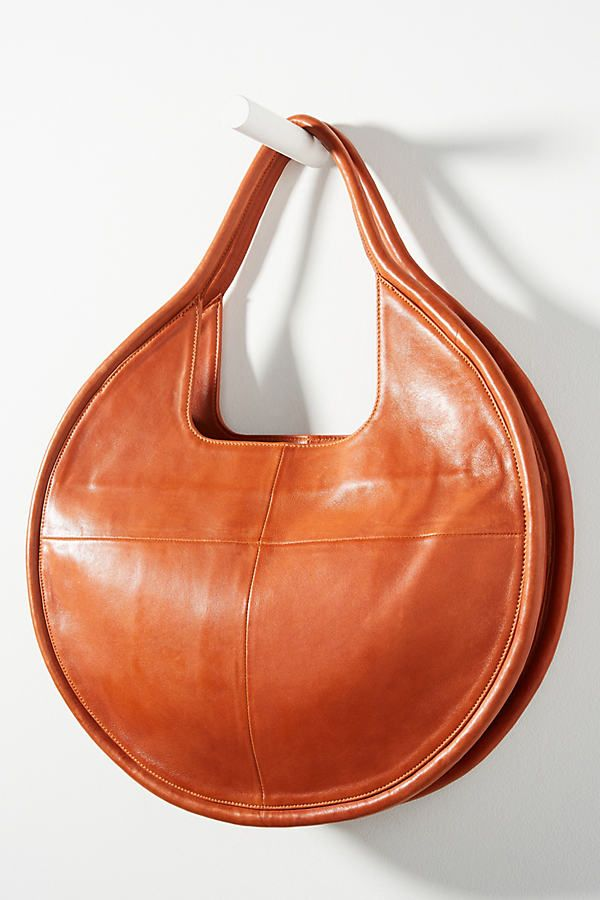cuero: (24, 116, 574, 825)
